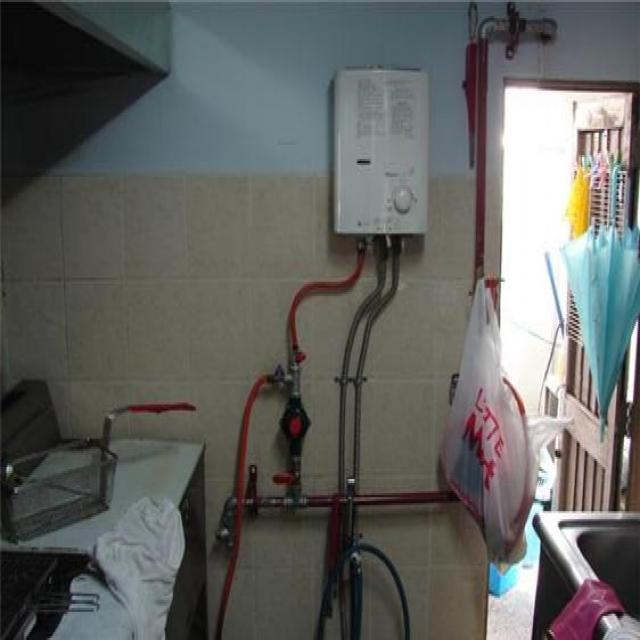Boiler: (302, 25, 456, 309)
